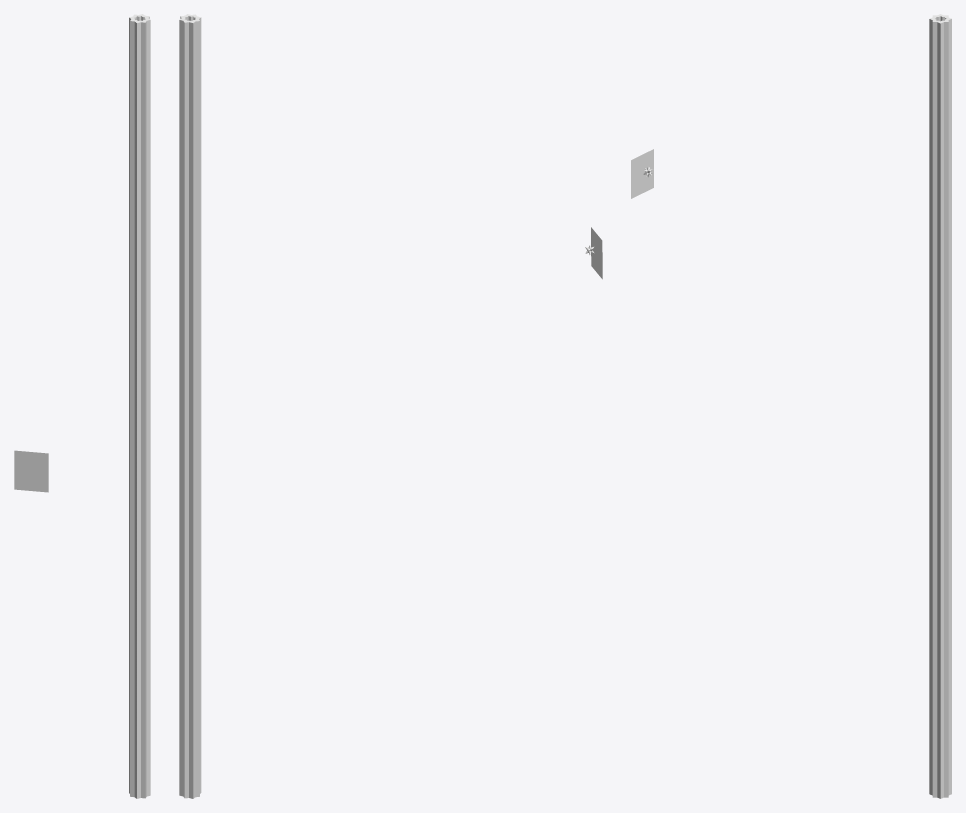
File: PlinthMoment_Animations_SacredLight.fbx
3 views of the same model, side by side, from view 1: azimuth 30°, elevation 25°; view 2: azimuth 150°, elevation 25°; view 3: azimuth 270°, elevation 25° (orthographic).
Parts seen in each view (by area): view 1: starPlinthGlow, glow; view 2: starPlinthGlow; view 3: starPlinthGlow, glow.
Boxes of the visible parts, <box> form: starPlinthGlow: <box>129,14,150,798</box>; glow: <box>14,450,48,492</box>; starPlinthGlow: <box>179,14,201,798</box>; starPlinthGlow: <box>929,14,951,798</box>; glow: <box>631,149,653,198</box>.
Bounding box in the file's own units: 13.24 × 35.2 × 13.2.
Materials: 3 (2 with a texture image).
